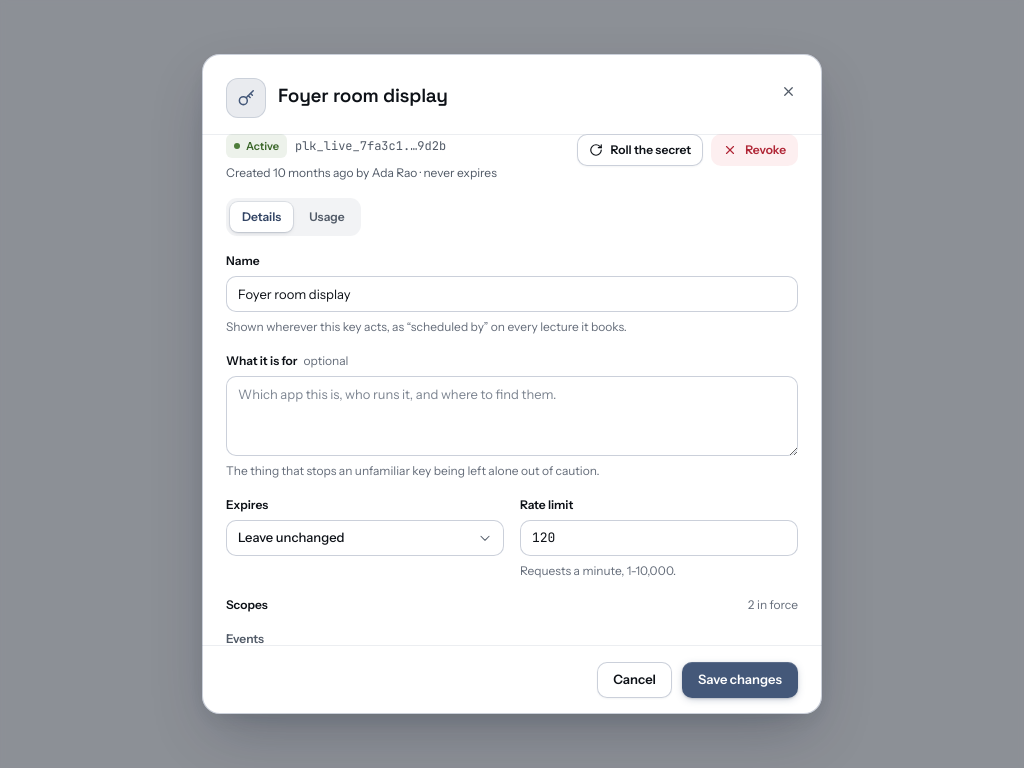
Scenario: KeyDialog › reads the counters on the usage tab
The image size is (1024, 768).
Click the radio button labelled "Usage". click: click(327, 217)
box: [297, 202, 356, 232]
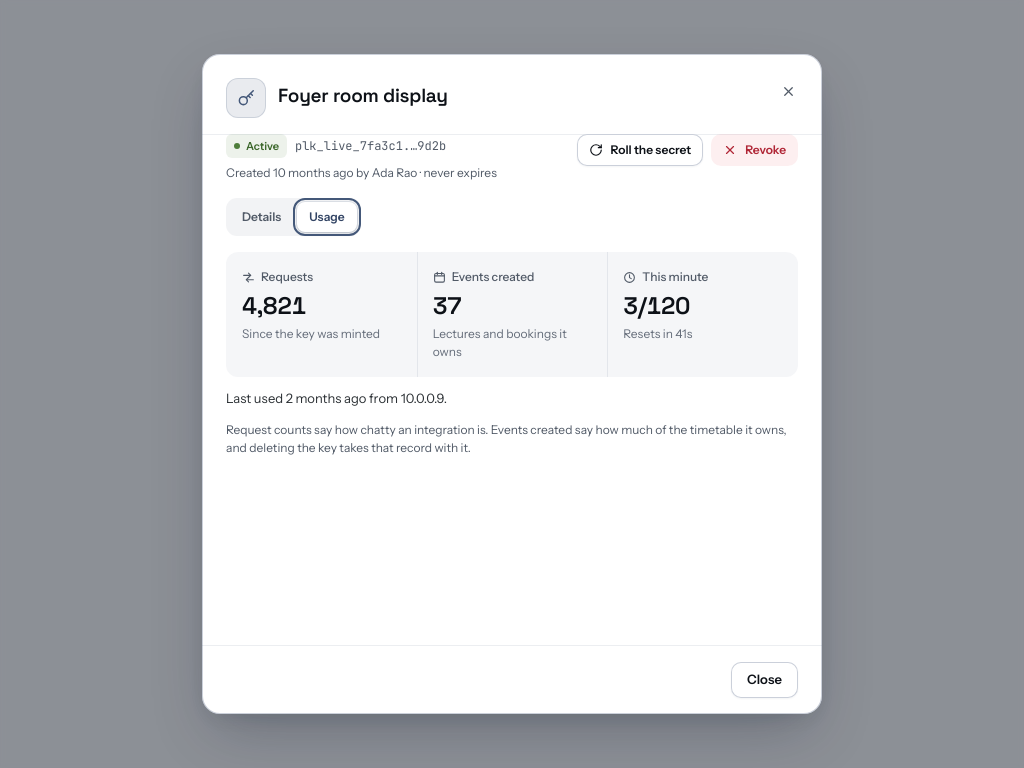
Result: the text "4,821" is shown at [242, 290, 306, 321]
Result: the text "37" is shown at [433, 290, 462, 321]
Result: the text "3/120" is shown at [623, 290, 690, 321]
